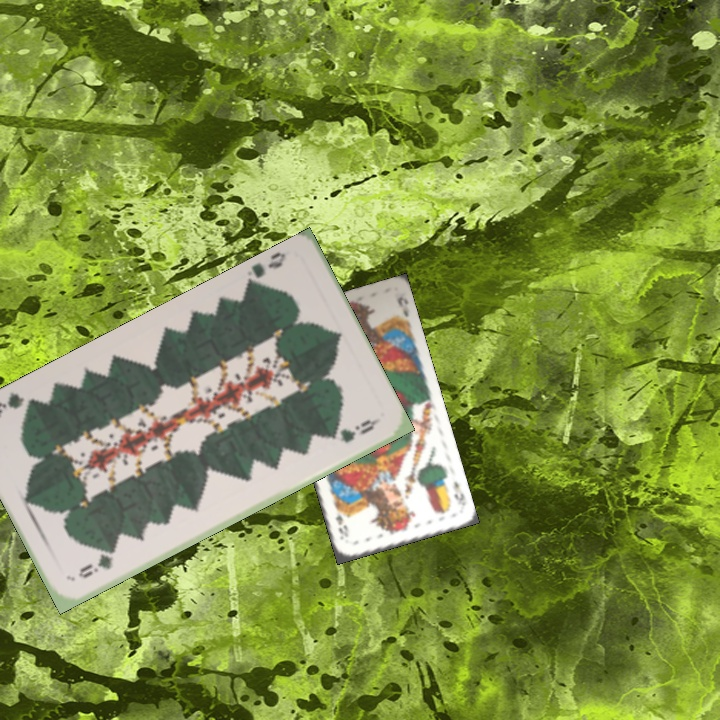EK: (449, 477, 469, 510)
G9: (243, 248, 289, 290), (74, 546, 118, 581)
